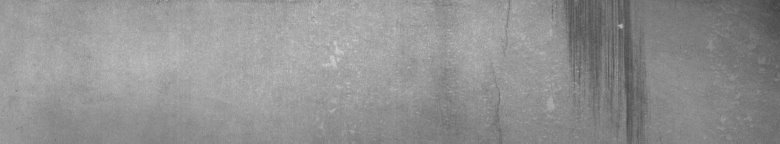ka: (496, 4, 644, 136)
